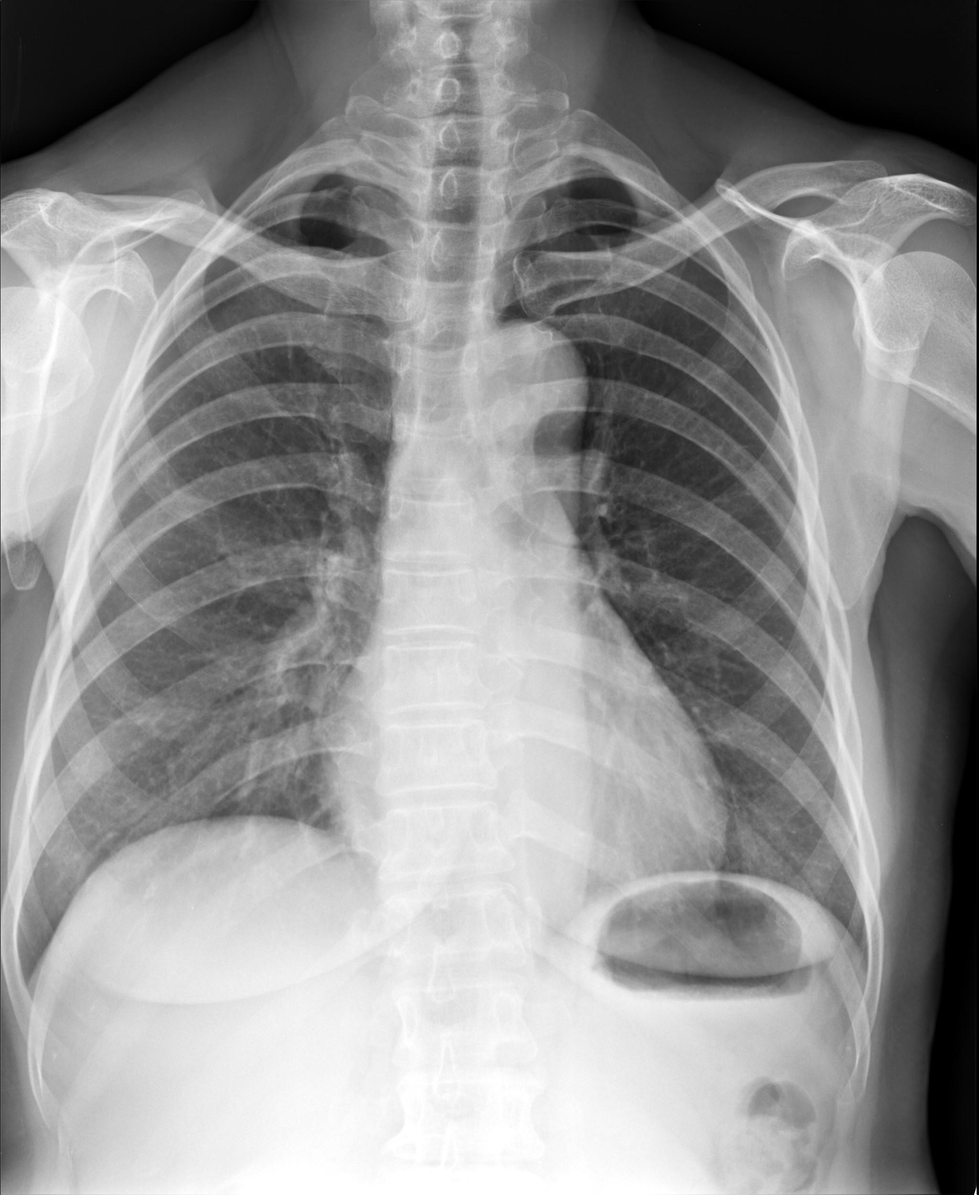Aortic enlargement: (463, 317, 587, 453)
